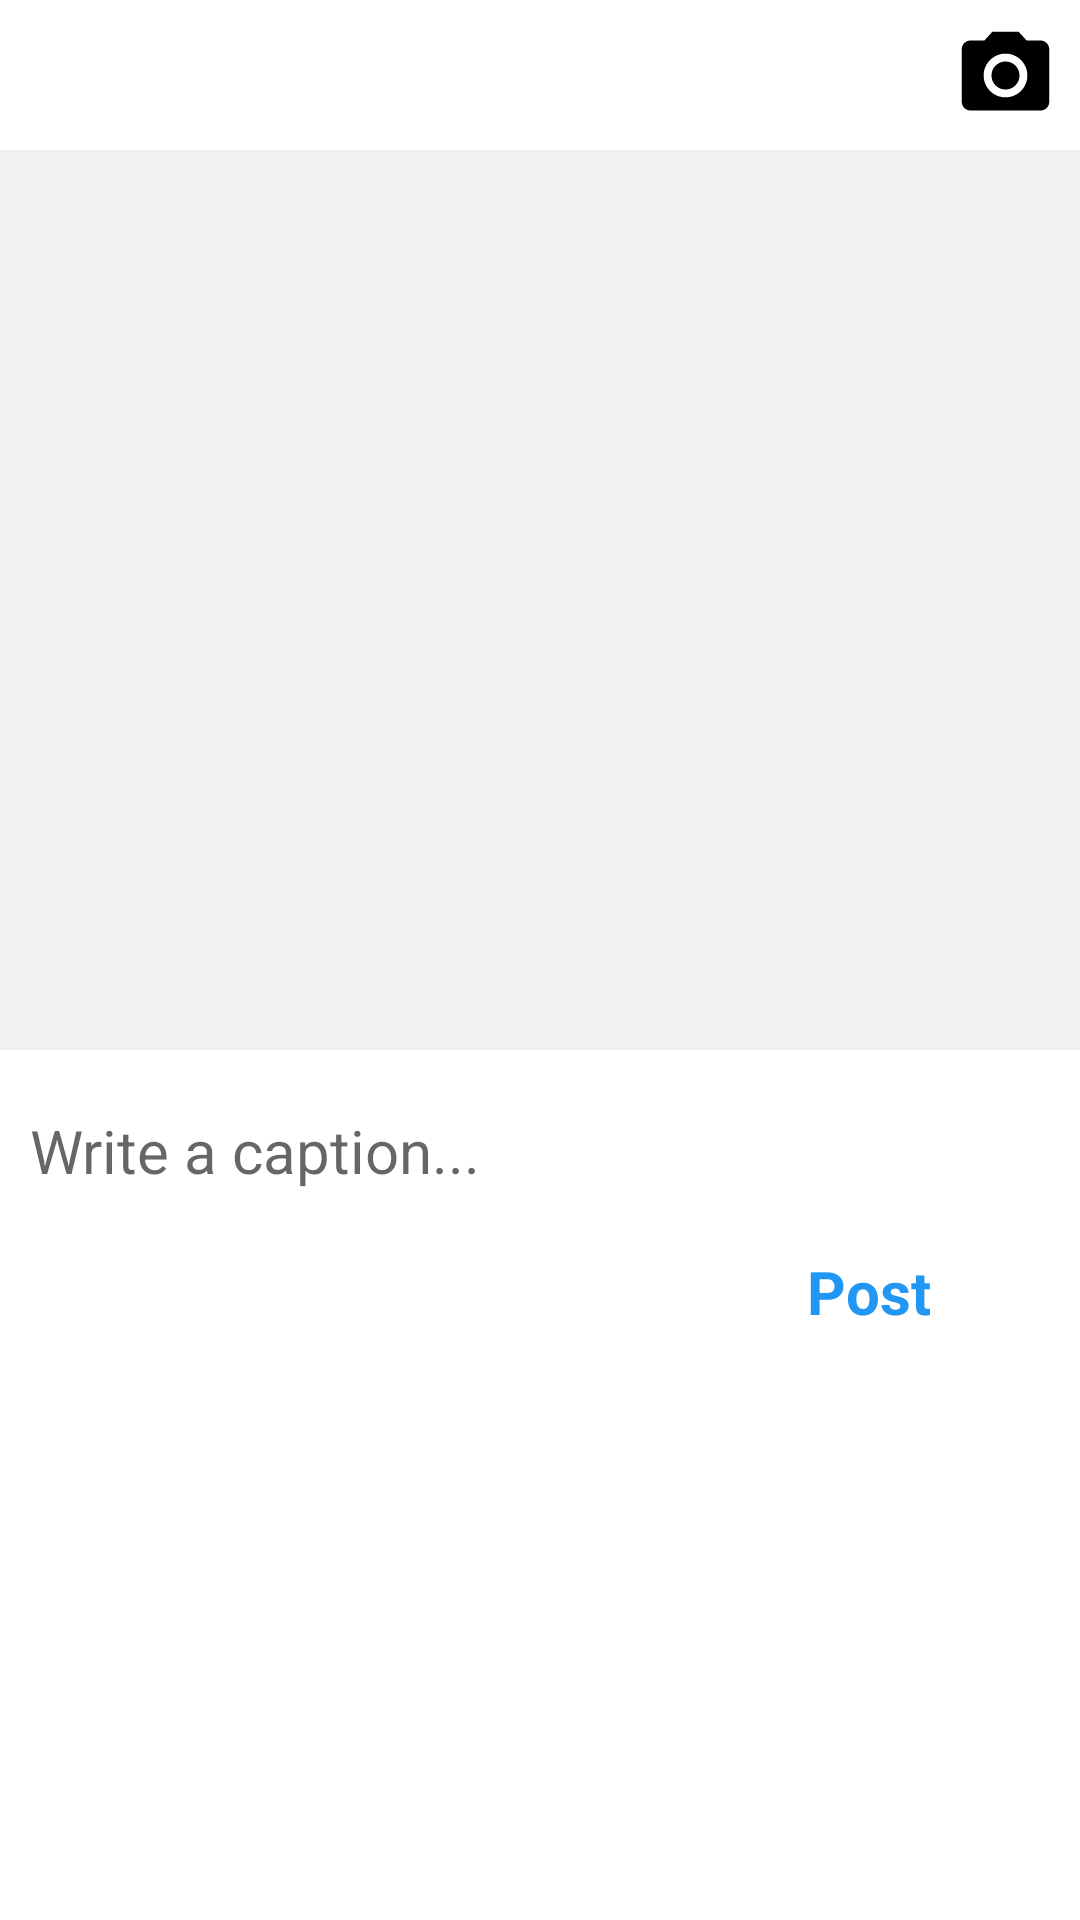

Screen size 1080*1920. Icon name, then its center in pixels as [x,y]:
Take a picture: [1005,71]
